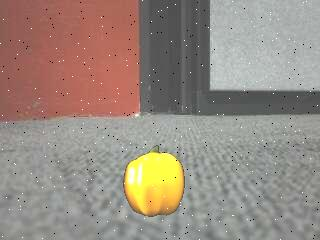Capsicum: (122, 142, 188, 218)
